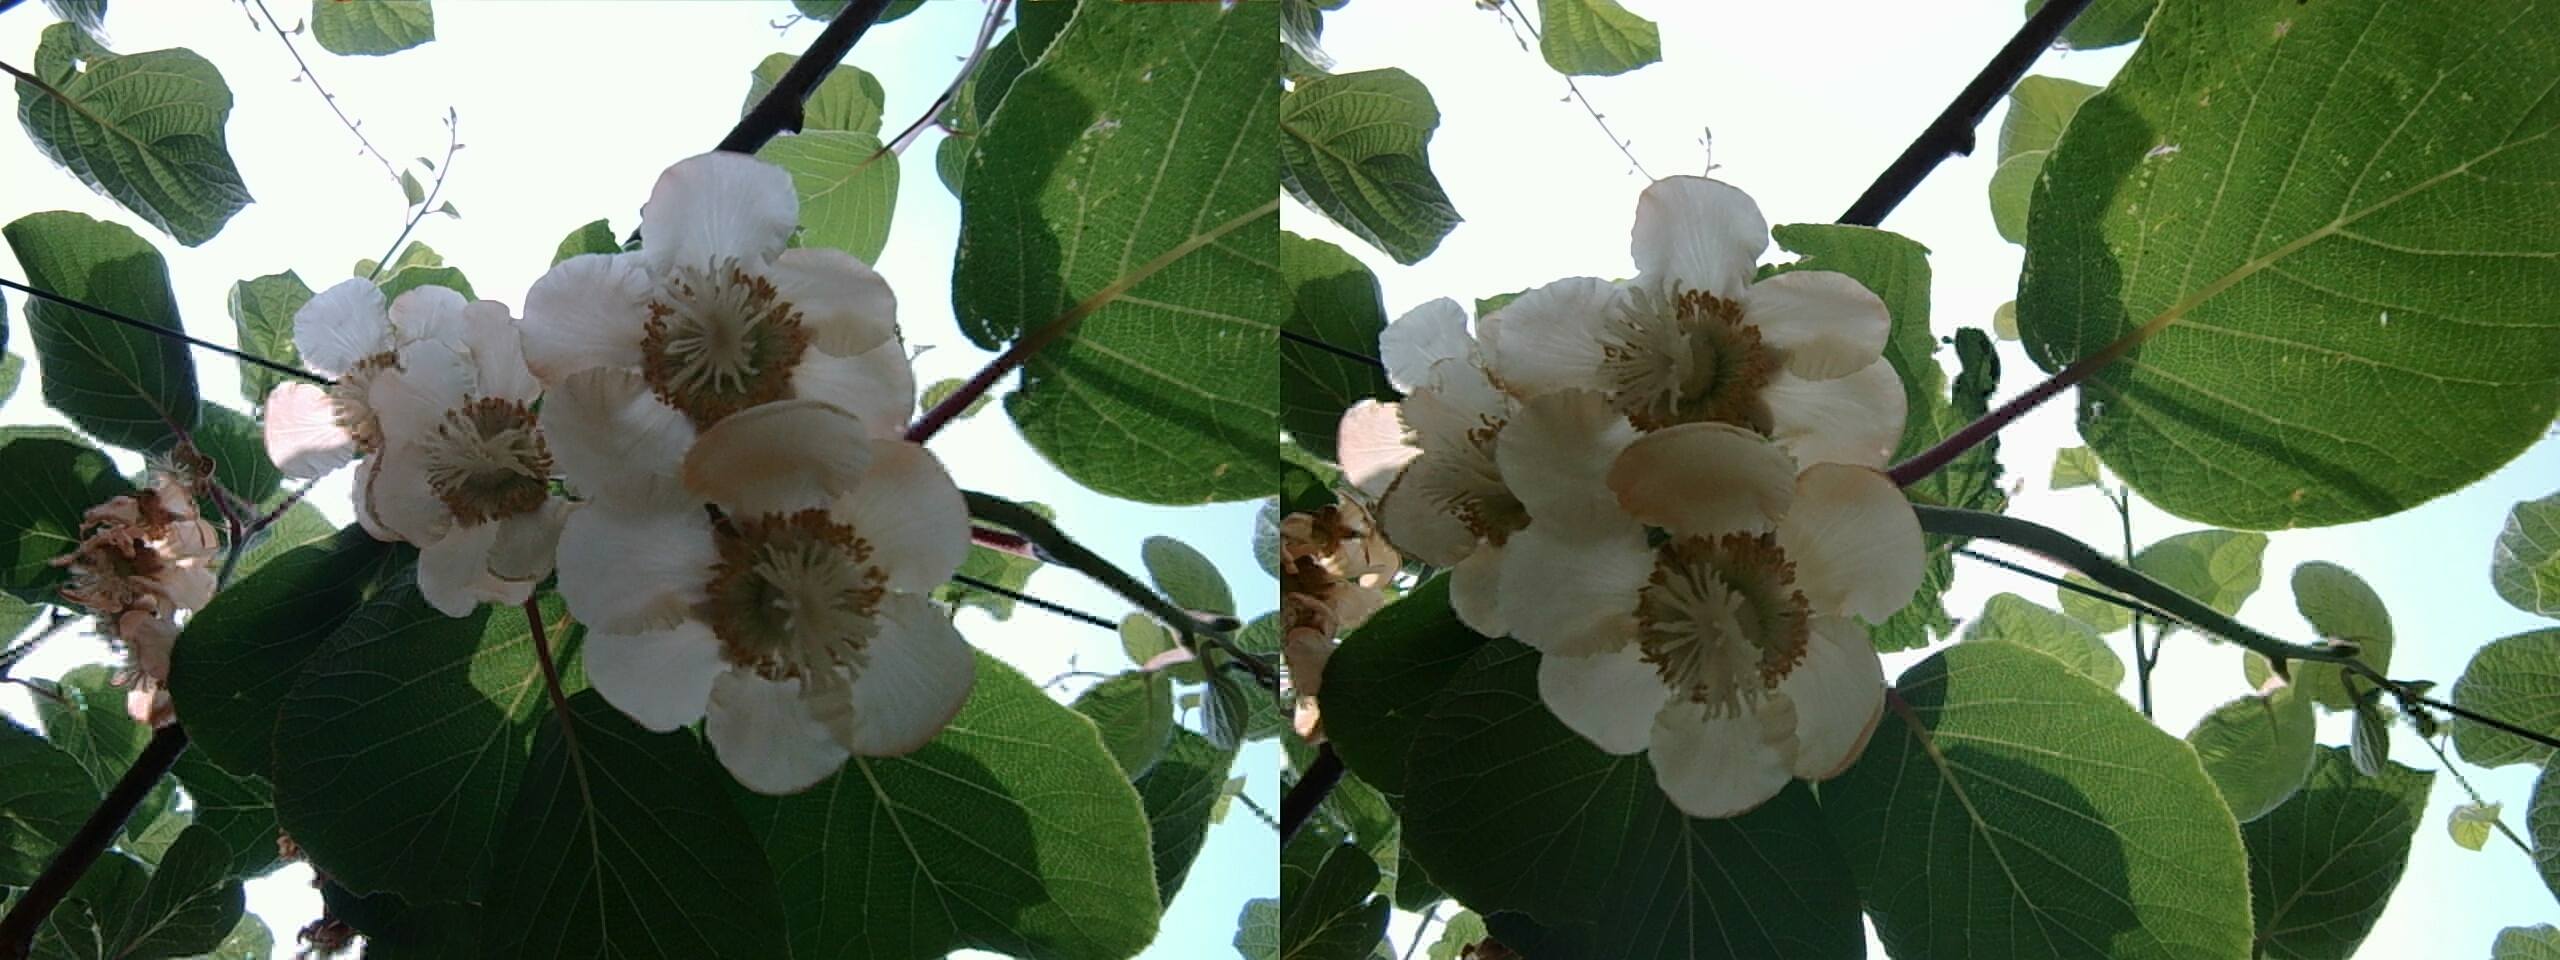flower: (1538, 434, 1889, 802), (588, 415, 957, 758), (1487, 180, 1871, 477), (532, 181, 888, 452), (330, 291, 599, 601), (1456, 403, 1652, 624)
